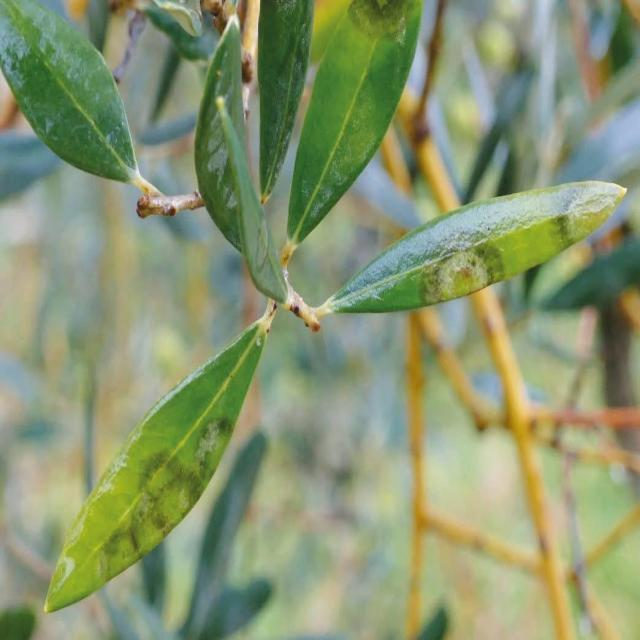OlivePeacockSpot: (45, 300, 278, 612), (316, 180, 626, 318), (288, 0, 422, 241)
